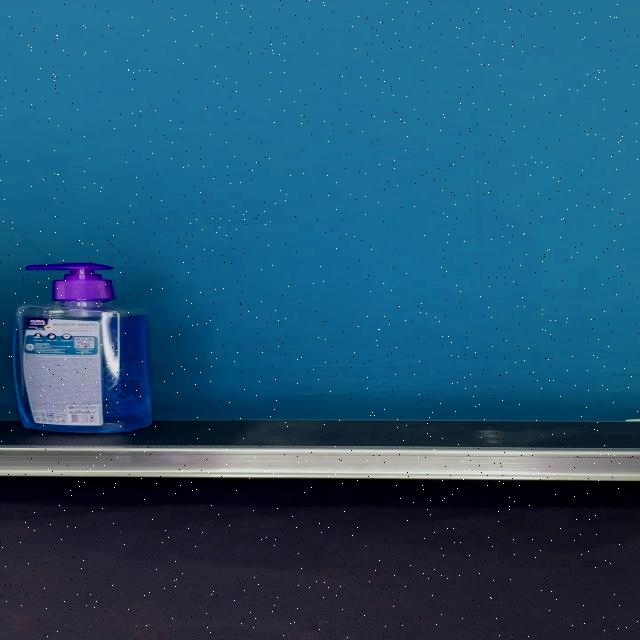Bottle: (15, 264, 152, 433)
Cap: (24, 264, 115, 302)
